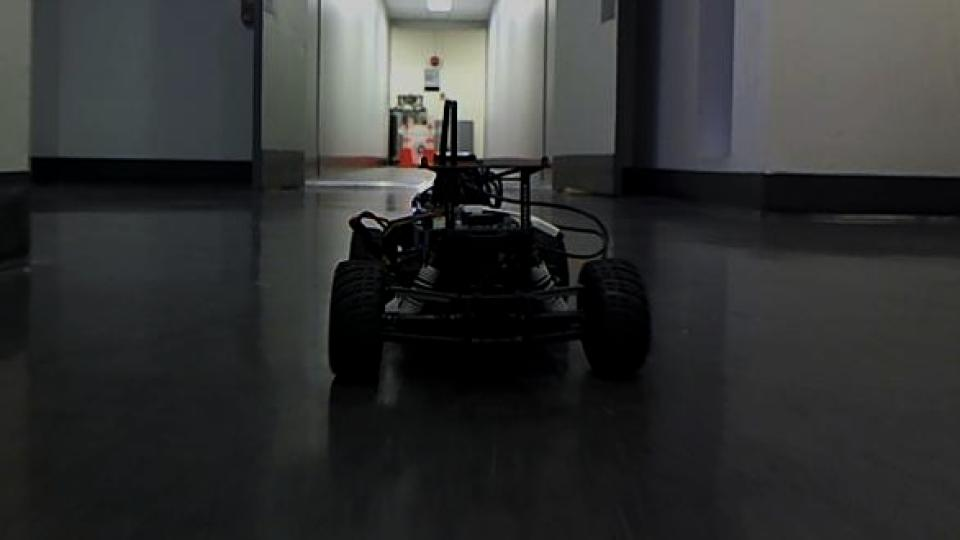car: (322, 97, 654, 385)
